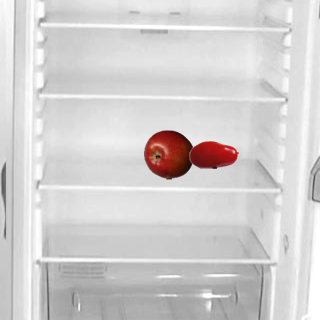Apple Braeburn: (143, 129, 193, 179)
Tomato 2: (188, 129, 238, 179)
